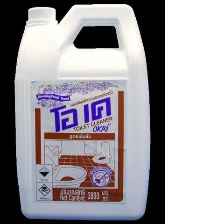cleaning_solution: (12, 3, 153, 223)
